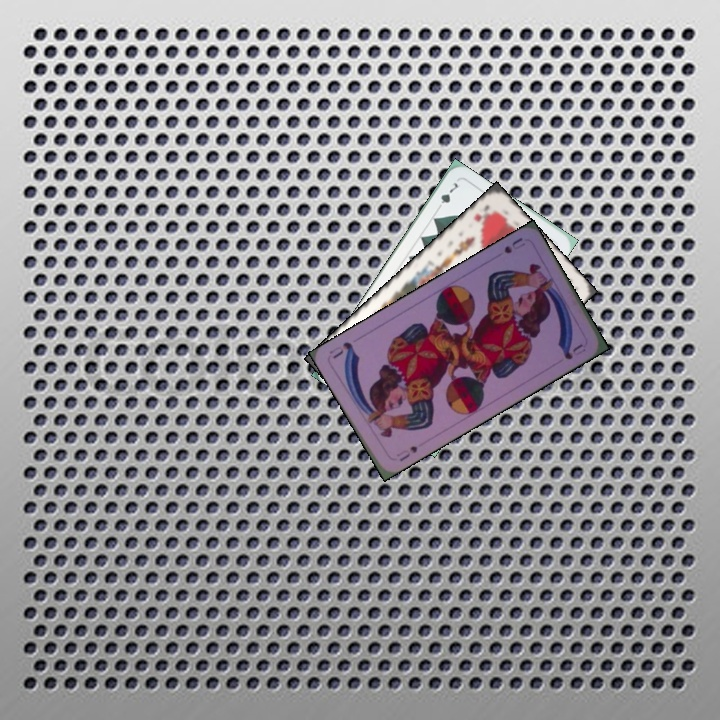G7: (432, 178, 461, 213)
HK: (470, 201, 498, 226)
SU: (500, 233, 528, 256), (392, 442, 420, 464)
